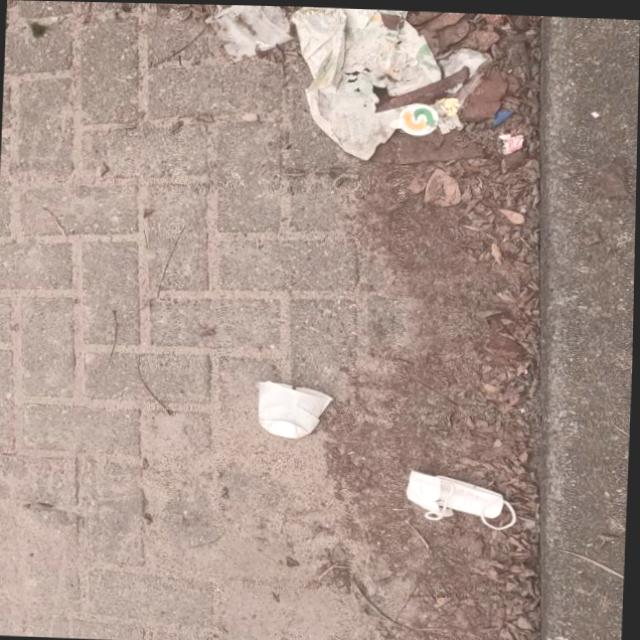Cup: (253, 378, 337, 439)
Mask: (404, 466, 520, 529)
Paper: (281, 5, 443, 163), (198, 3, 292, 65), (436, 44, 487, 94), (428, 94, 463, 133)
Plastic: (496, 130, 524, 153)
